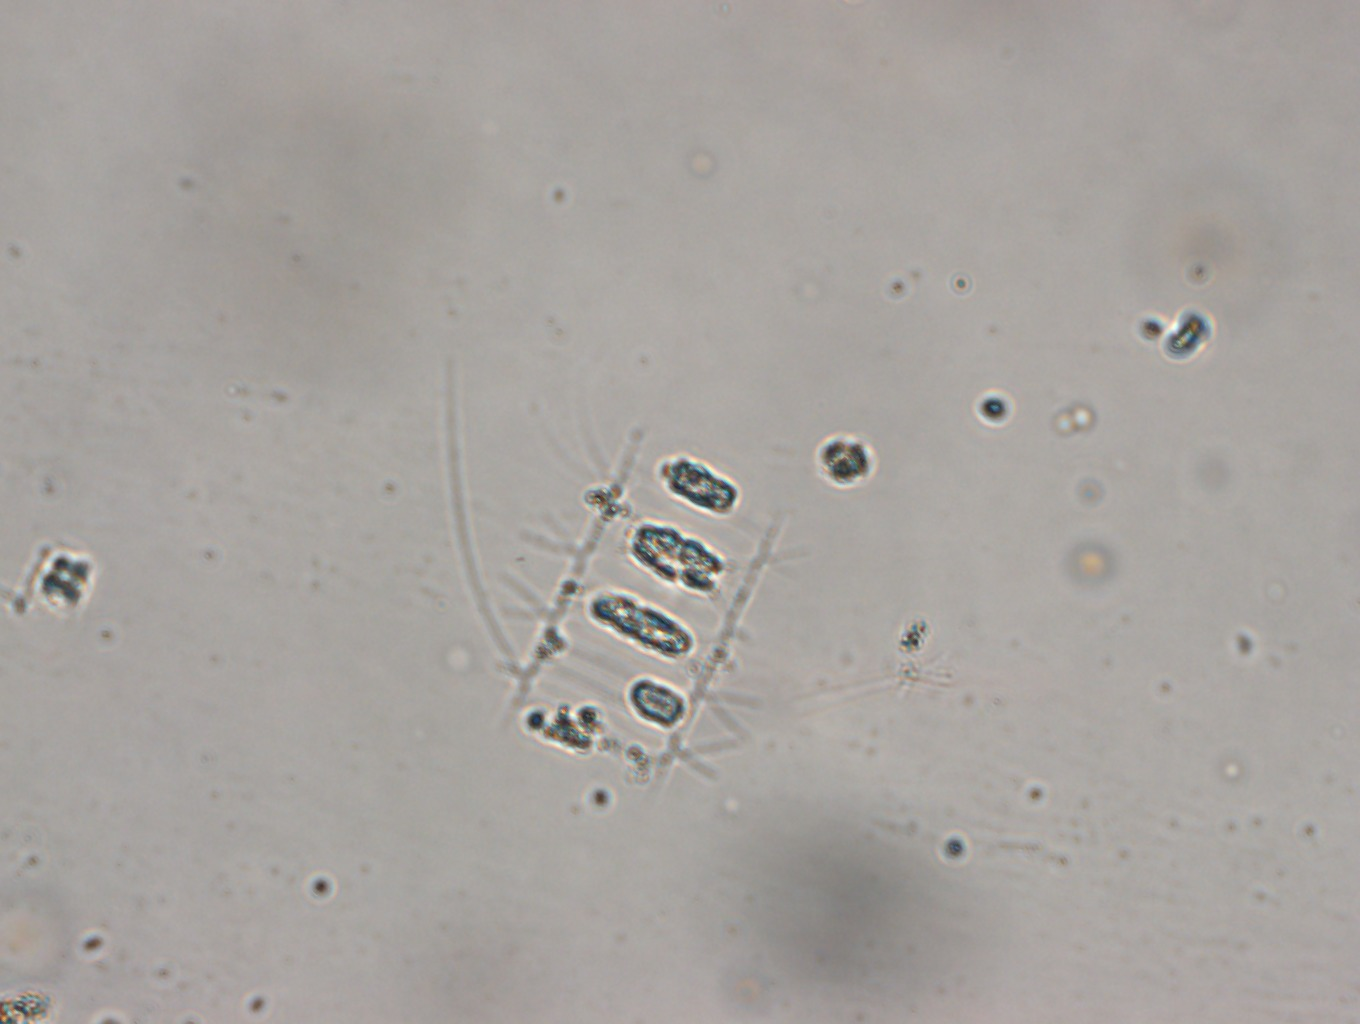chaetoceros: (456, 349, 789, 796)
